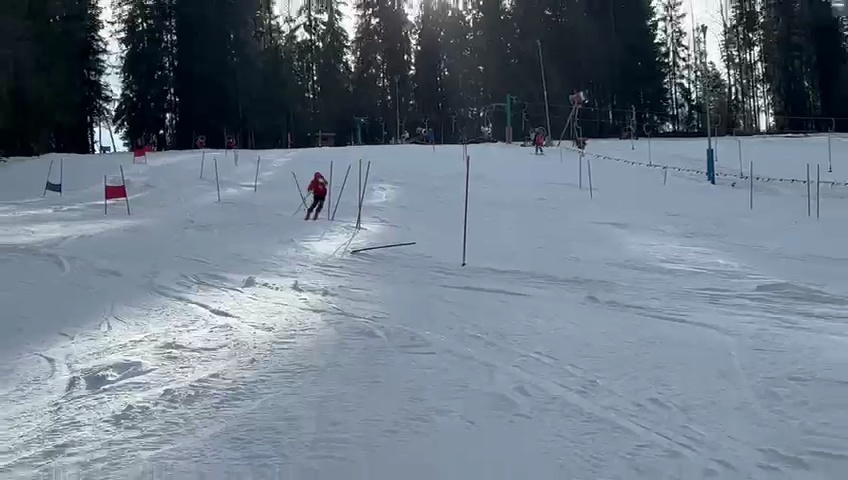gate: (345, 222, 420, 258), (457, 146, 475, 271), (350, 158, 372, 239), (582, 207, 638, 234), (326, 160, 349, 225), (292, 169, 312, 221), (703, 125, 718, 190), (117, 162, 134, 219), (707, 129, 722, 188), (813, 161, 826, 222), (743, 159, 757, 212), (800, 162, 812, 221), (38, 158, 54, 199), (212, 156, 224, 205), (99, 169, 111, 217), (585, 158, 597, 201), (56, 158, 68, 199), (250, 155, 262, 194), (823, 134, 835, 173), (736, 135, 746, 180), (575, 153, 584, 195), (284, 109, 293, 151), (197, 152, 207, 181), (658, 166, 670, 187), (233, 151, 238, 167)
